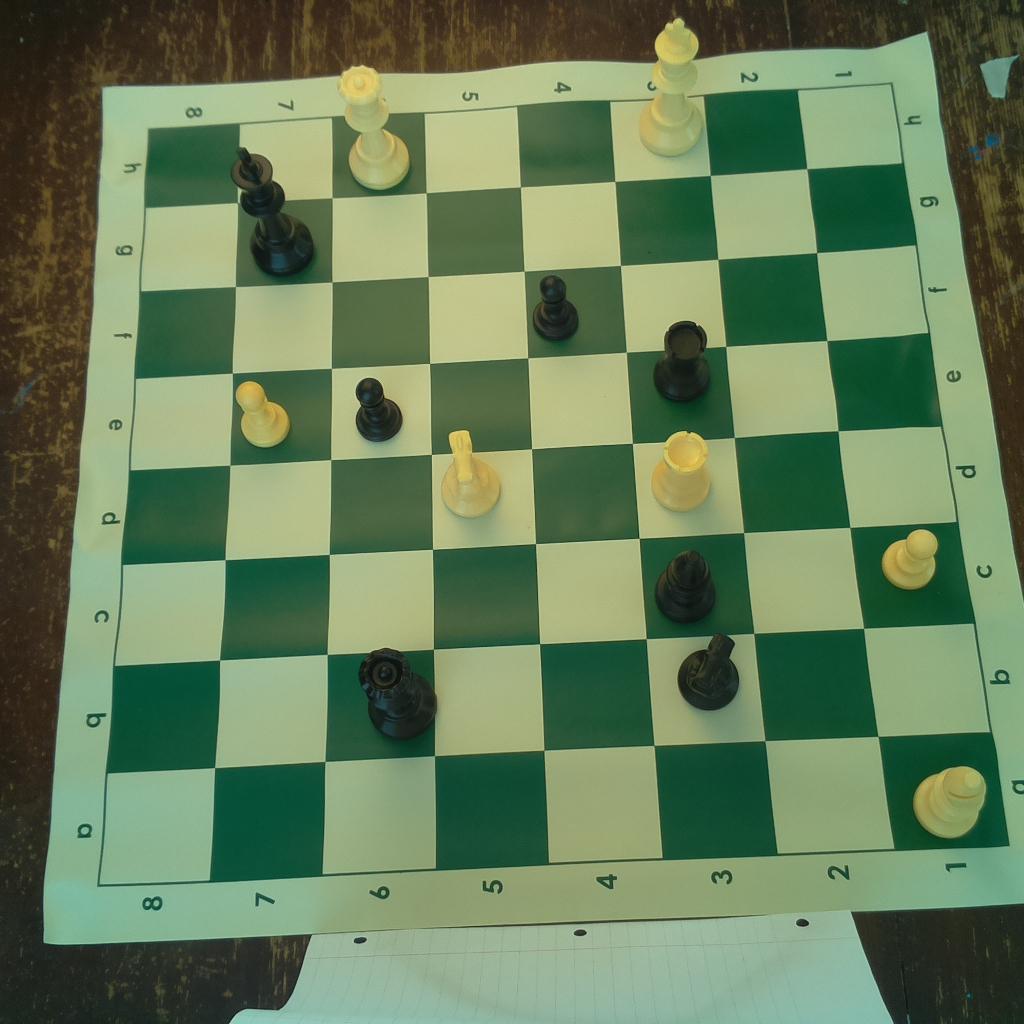black_bishop: (653, 547, 719, 625)
black_king: (228, 144, 320, 275)
black_knight: (673, 627, 744, 713)
black_pawn: (525, 266, 585, 345), (347, 377, 410, 441)
black_queen: (354, 639, 442, 743)
black_rook: (650, 313, 716, 406)
file_a: (101, 734, 1012, 883)
file_b: (103, 623, 993, 774)
file_c: (114, 521, 975, 666)
file_d: (124, 427, 957, 564)
file_e: (131, 331, 945, 471)
file_f: (137, 244, 933, 382)
file_g: (142, 162, 919, 290)
file_h: (145, 83, 905, 208)
outline: (99, 82, 1012, 884)
rank_1: (796, 84, 1011, 853)
rank_2: (706, 88, 896, 854)
rank_3: (611, 95, 781, 858)
rank_4: (516, 97, 663, 865)
rank_5: (423, 104, 550, 874)
rank_6: (320, 112, 438, 874)
rank_7: (210, 117, 333, 880)
rank_8: (98, 122, 242, 890)
white_bishop: (907, 764, 992, 840)
white_king: (634, 15, 705, 162)
white_knight: (432, 421, 507, 521)
white_pawn: (232, 374, 293, 451), (881, 525, 942, 597)
white_queen: (337, 61, 412, 191)
white_rook: (650, 430, 714, 514)
